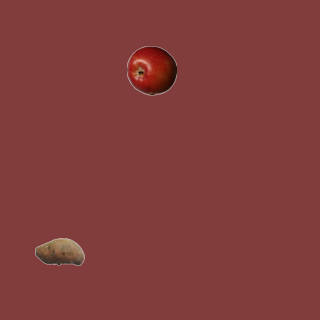Apple Braeburn: (126, 45, 176, 95)
Potato Sweet: (34, 226, 84, 276)
